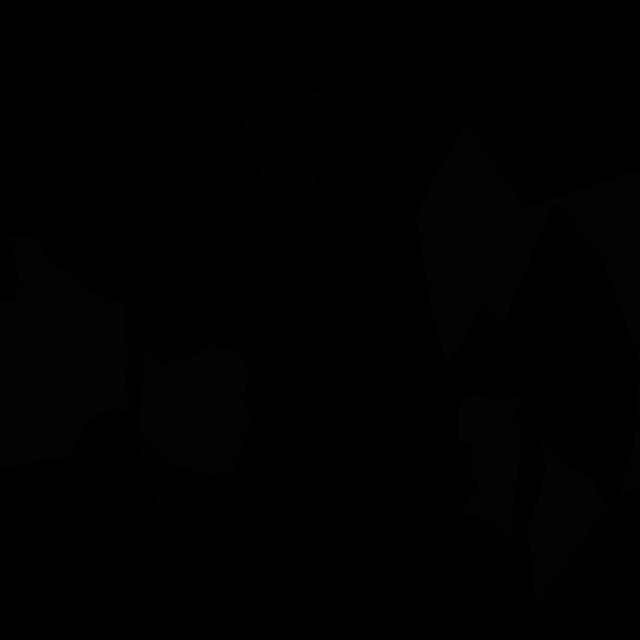cardboard: (416, 121, 640, 608), (0, 233, 126, 468), (138, 343, 252, 476), (457, 393, 522, 538)
rigid_plastic: (92, 200, 169, 523), (238, 52, 334, 218)
